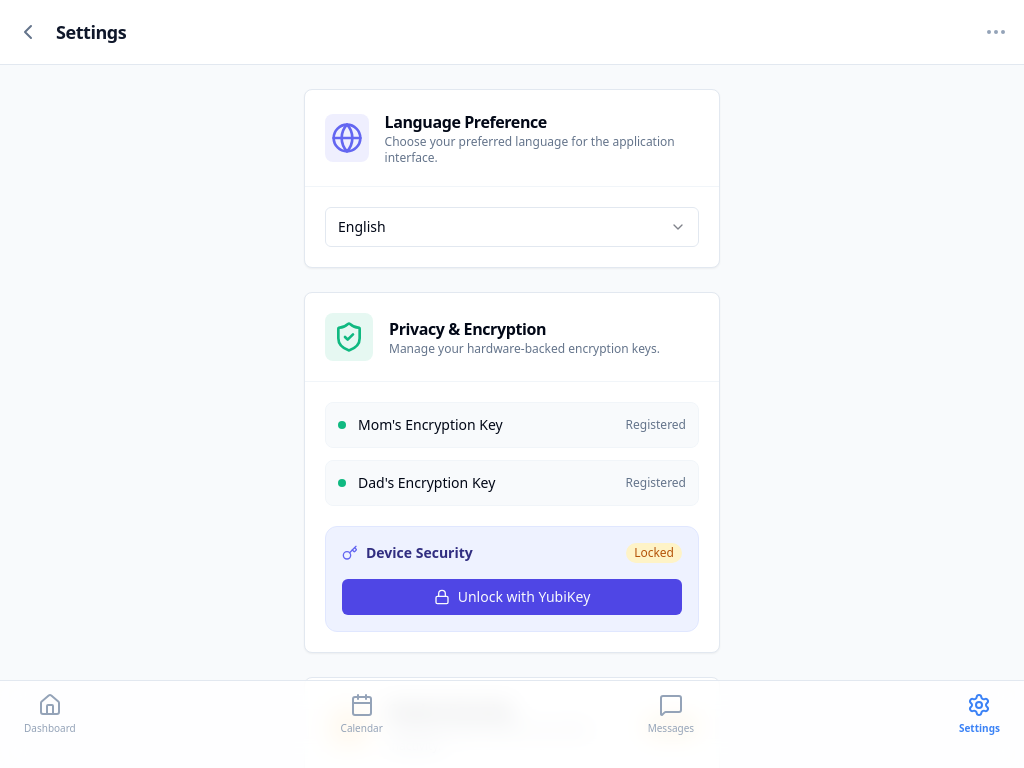
Scenario: Settings › shows error when refreshE2eeSessionState reports failed unlock
Click the button with test id "unlock-button" at [512, 597], box left=342, top=579, right=682, bottom=615
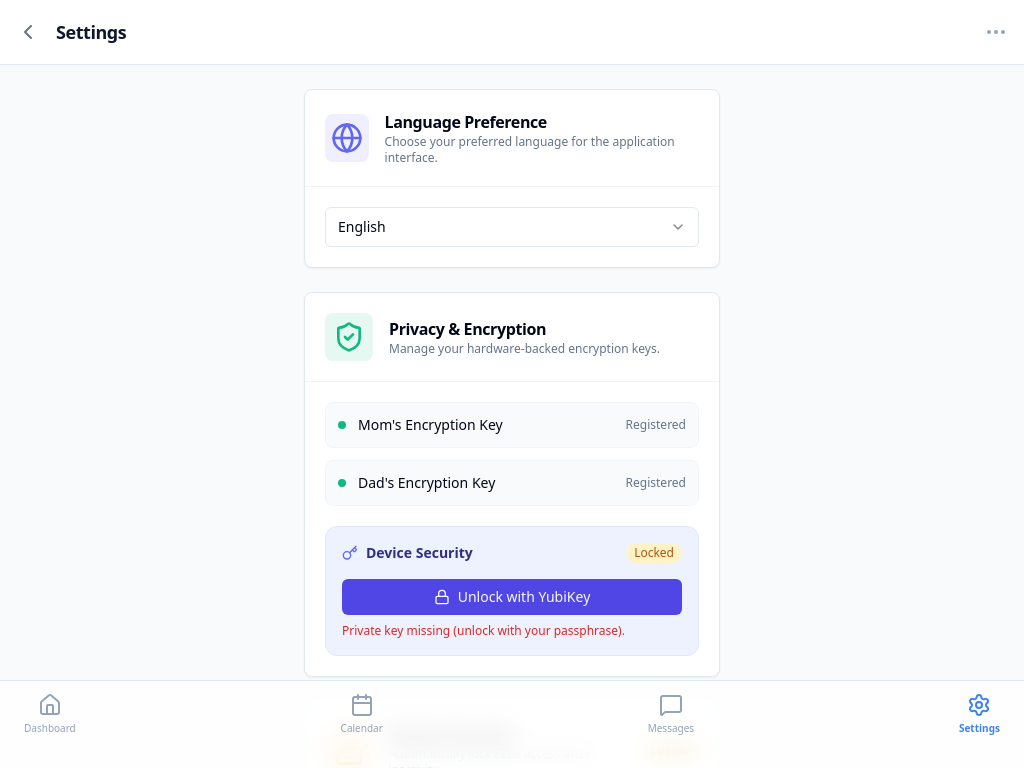
Expected: the text "Private key missing (unlock with your passphrase)." is shown, left=342, top=622, right=625, bottom=639
